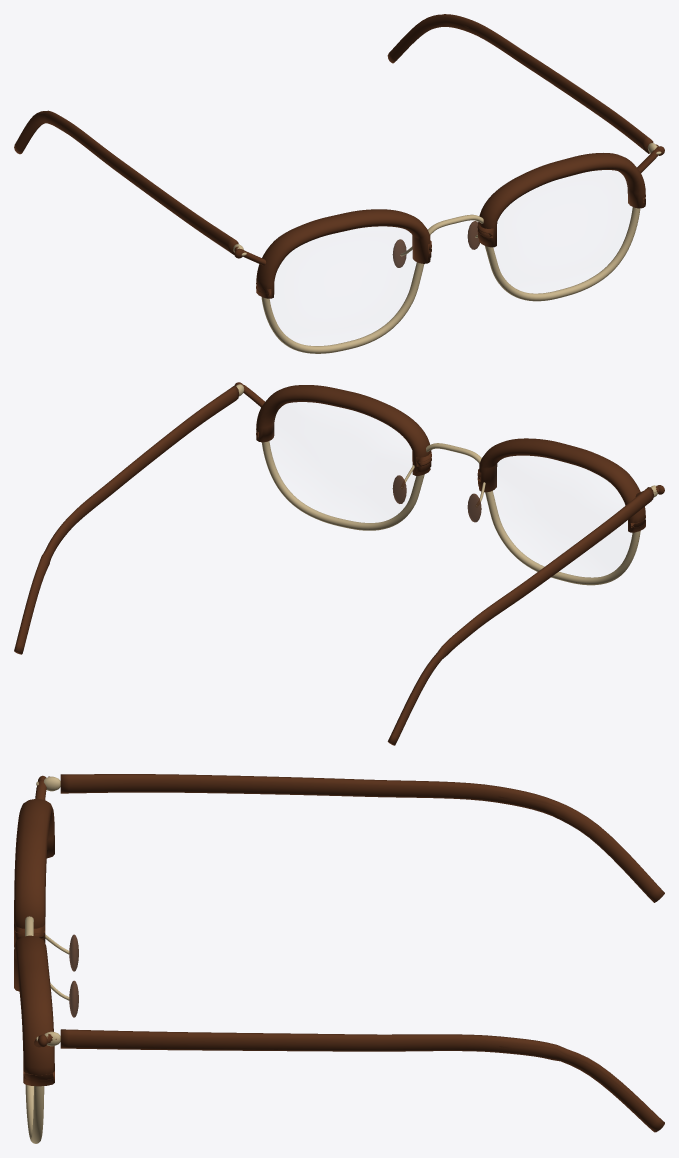
3 views of the same model, one above another, from view 1: azimuth 30°, elevation 25°; view 2: azimuth 150°, elevation 25°; view 3: azimuth 270°, elevation 25° (orthographic). The views are drawn at different scales.
Parts seen in each view (by area): view 1: Acetate_brow_image_left, Rim_image_left, Temple_tip_image_left; view 2: Acetate_brow_image_left, Rim_image_left, Temple_tip_image_left; view 3: Acetate_brow_image_left, Temple_tip_image_left, Rim_image_left.
Boxes of the visible parts, x1,y1,x2,y2 form: Acetate_brow_image_left: (14, 14, 664, 298); Rim_image_left: (233, 143, 661, 353); Temple_tip_image_left: (14, 17, 479, 267); Acetate_brow_image_left: (14, 382, 664, 745); Rim_image_left: (236, 384, 657, 585); Temple_tip_image_left: (14, 475, 481, 745); Acetate_brow_image_left: (14, 774, 664, 1132); Temple_tip_image_left: (69, 796, 663, 1132); Rim_image_left: (25, 776, 69, 1143).
Size of the model in its own units: 0.14 by 0.0419 by 0.1457.
